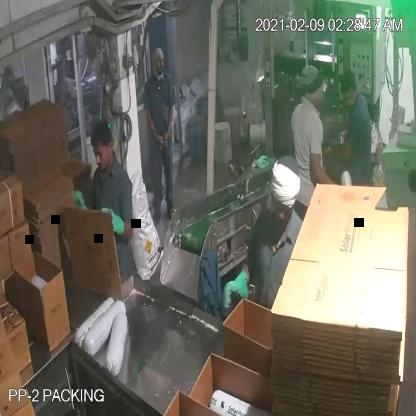glove: (213, 264, 254, 322), (94, 200, 130, 244), (66, 187, 92, 220)
no_glove: (317, 129, 358, 165), (310, 147, 341, 191), (143, 107, 165, 148), (163, 101, 179, 149)
